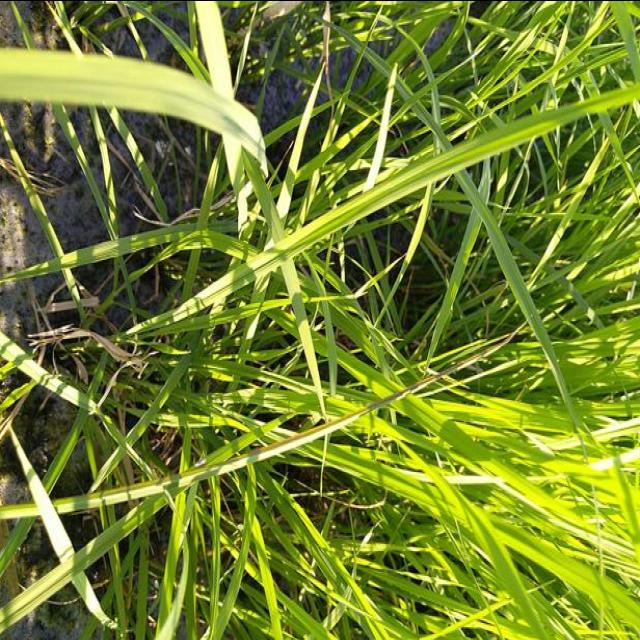Leaf Blight: (176, 324, 526, 489)
